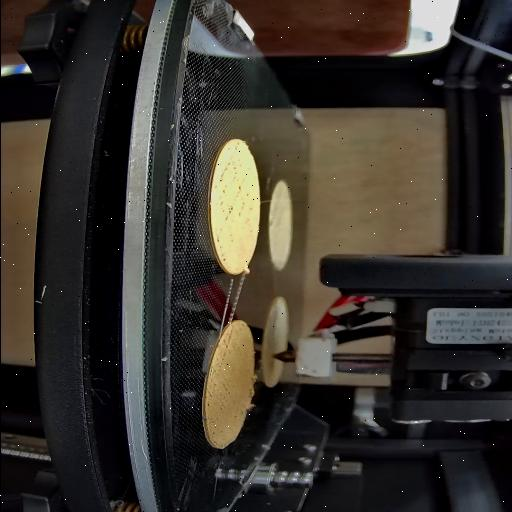under_extrusion: (215, 146, 251, 222), (207, 382, 237, 434), (216, 330, 232, 368), (210, 234, 228, 262)
